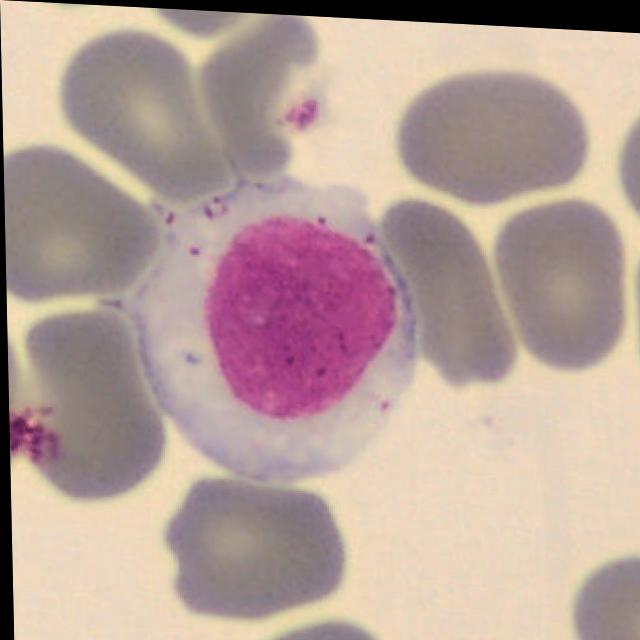Linfocito: (134, 172, 415, 481)
